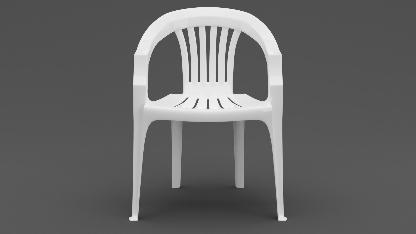chair: (121, 2, 291, 227)
